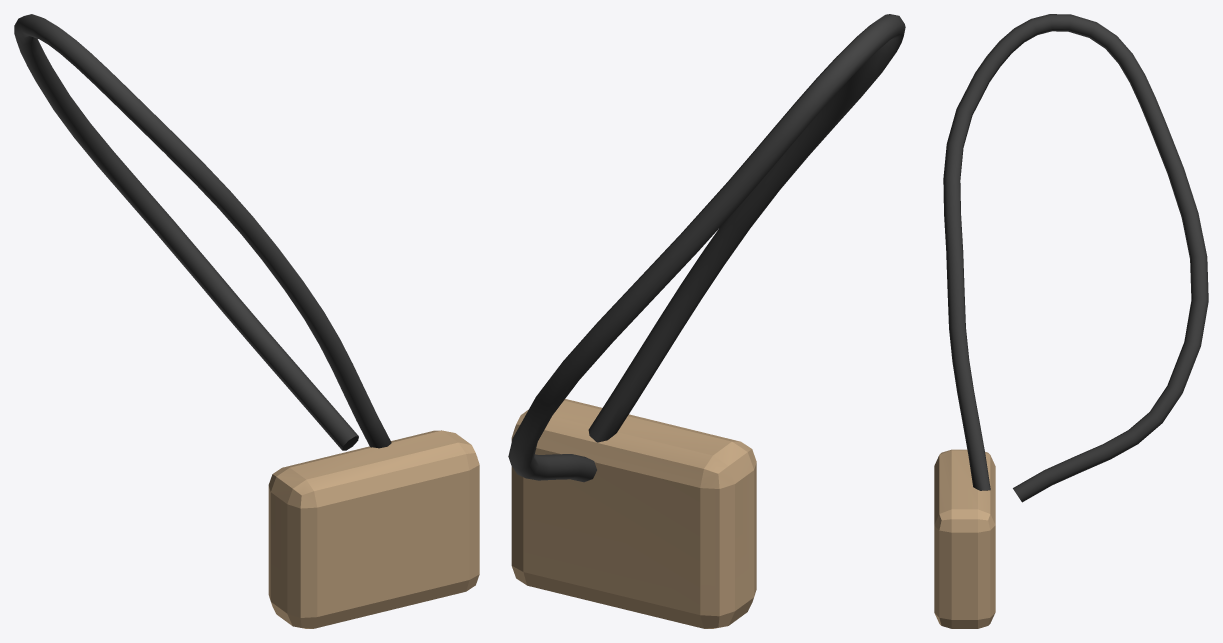
File: acc_crossbag.glb
3 renders of one model, left to right at view 1: azimuth 30°, elevation 25°; view 2: azimuth 150°, elevation 25°; view 3: azimuth 270°, elevation 25°, orthographic. The views are drawn at different scales.
Parts seen in each view (by area): view 1: body; view 2: body; view 3: body.
Boxes of the visible parts, bbox=[...] form: body: bbox=[14, 14, 479, 628]; body: bbox=[508, 14, 905, 628]; body: bbox=[934, 14, 1208, 628].
Bounding box in the file's own units: 0.3894 × 0.6053 × 0.3136.
